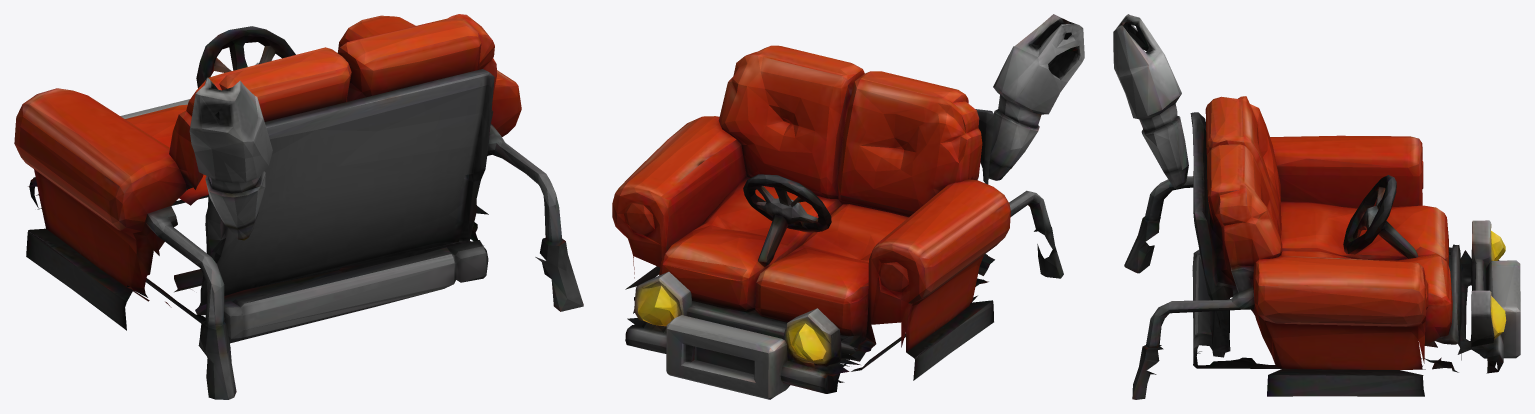
The model's file is cs_v_divano.glb.
The picture shows the model from 3 angles, left to right: view 1: azimuth 30°, elevation 25°; view 2: azimuth 150°, elevation 25°; view 3: azimuth 270°, elevation 25°; orthographic projection. The views are drawn at different scales.
Parts seen in each view (by area): view 1: v_divano; view 2: v_divano; view 3: v_divano.
Part boxes in pixels (<box>): v_divano: <box>14,14,583,399</box>; v_divano: <box>612,14,1084,399</box>; v_divano: <box>1113,14,1520,399</box>.
Size of the model in its own units: 2.71 by 2.01 by 2.99.
Materials: 1 (1 with a texture image).
